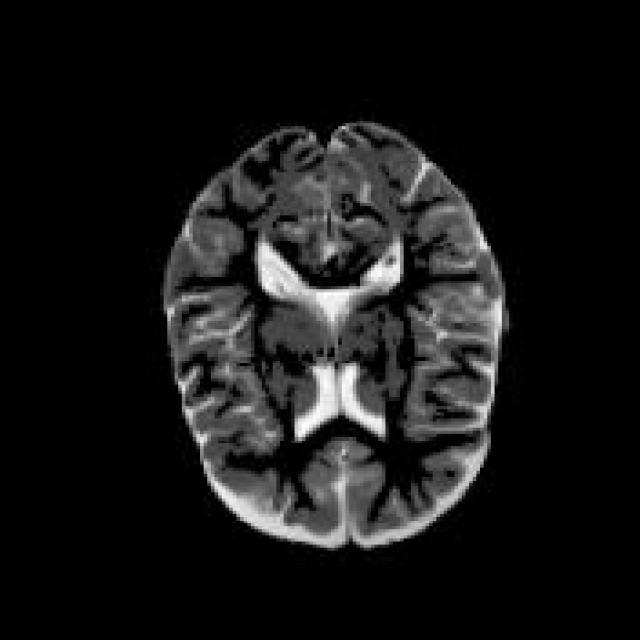CONTROL: (160, 117, 509, 551)
